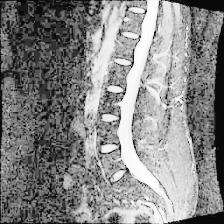disc: (110, 54, 133, 71), (97, 141, 123, 156), (104, 81, 127, 97), (121, 29, 144, 44), (128, 4, 151, 19), (99, 110, 121, 125), (107, 168, 127, 184)
